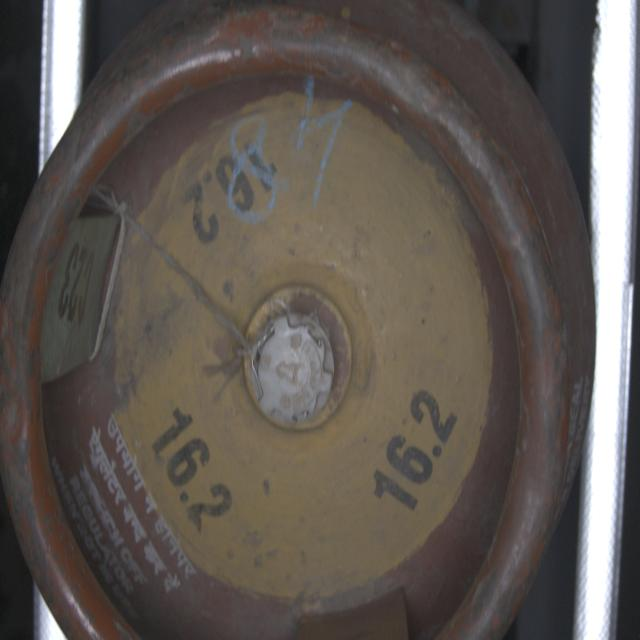Cap: (249, 310, 339, 430)
